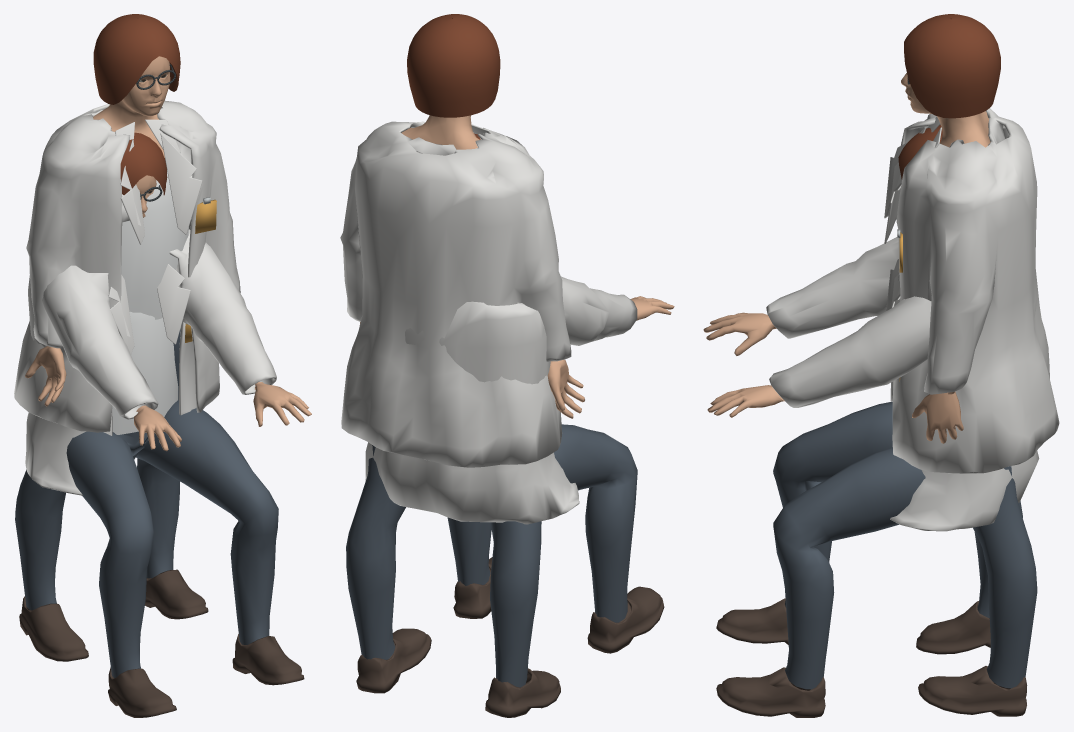
Rendered from doctor-03-middle.glb.
3 views of the same model, side by side, from view 1: azimuth 30°, elevation 25°; view 2: azimuth 150°, elevation 25°; view 3: azimuth 270°, elevation 25° (orthographic). The views are drawn at different scales.
Visible parts, largest first — view 1: Doctor anatomy and wardrobe.003, Doctor anatomy and wardrobe.001; view 2: Doctor anatomy and wardrobe.001, Doctor anatomy and wardrobe.003; view 3: Doctor anatomy and wardrobe.001, Doctor anatomy and wardrobe.003.
Boxes of the visible parts, x1,y1,x2,y2 form: Doctor anatomy and wardrobe.003: (25, 132, 311, 717); Doctor anatomy and wardrobe.001: (14, 14, 240, 661); Doctor anatomy and wardrobe.001: (340, 14, 584, 717); Doctor anatomy and wardrobe.003: (365, 133, 674, 653); Doctor anatomy and wardrobe.001: (884, 14, 1059, 716); Doctor anatomy and wardrobe.003: (703, 125, 1039, 717).
Size of the model in its own units: 0.609 by 1.74 by 0.8394.
